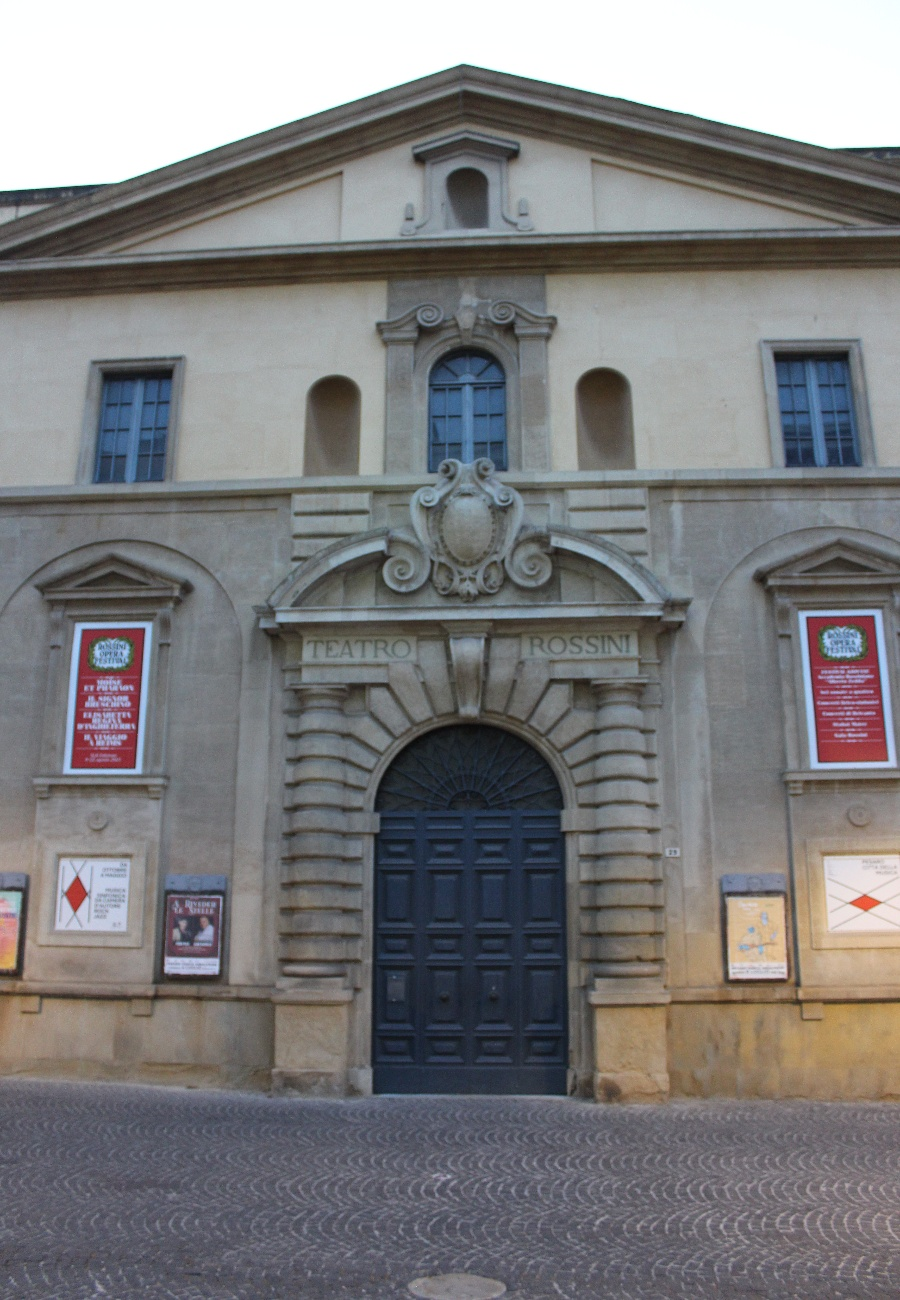Teatro Rossini: (1, 63, 897, 1113)
